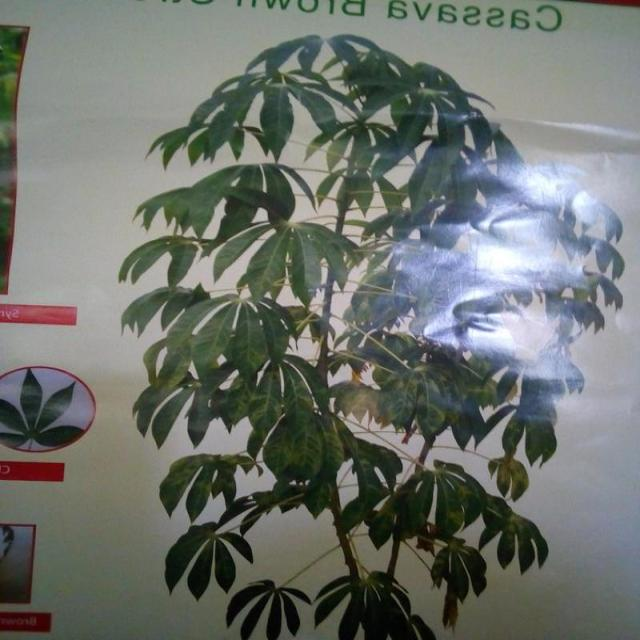cassava leaf: (119, 31, 626, 638), (1, 364, 97, 453)
